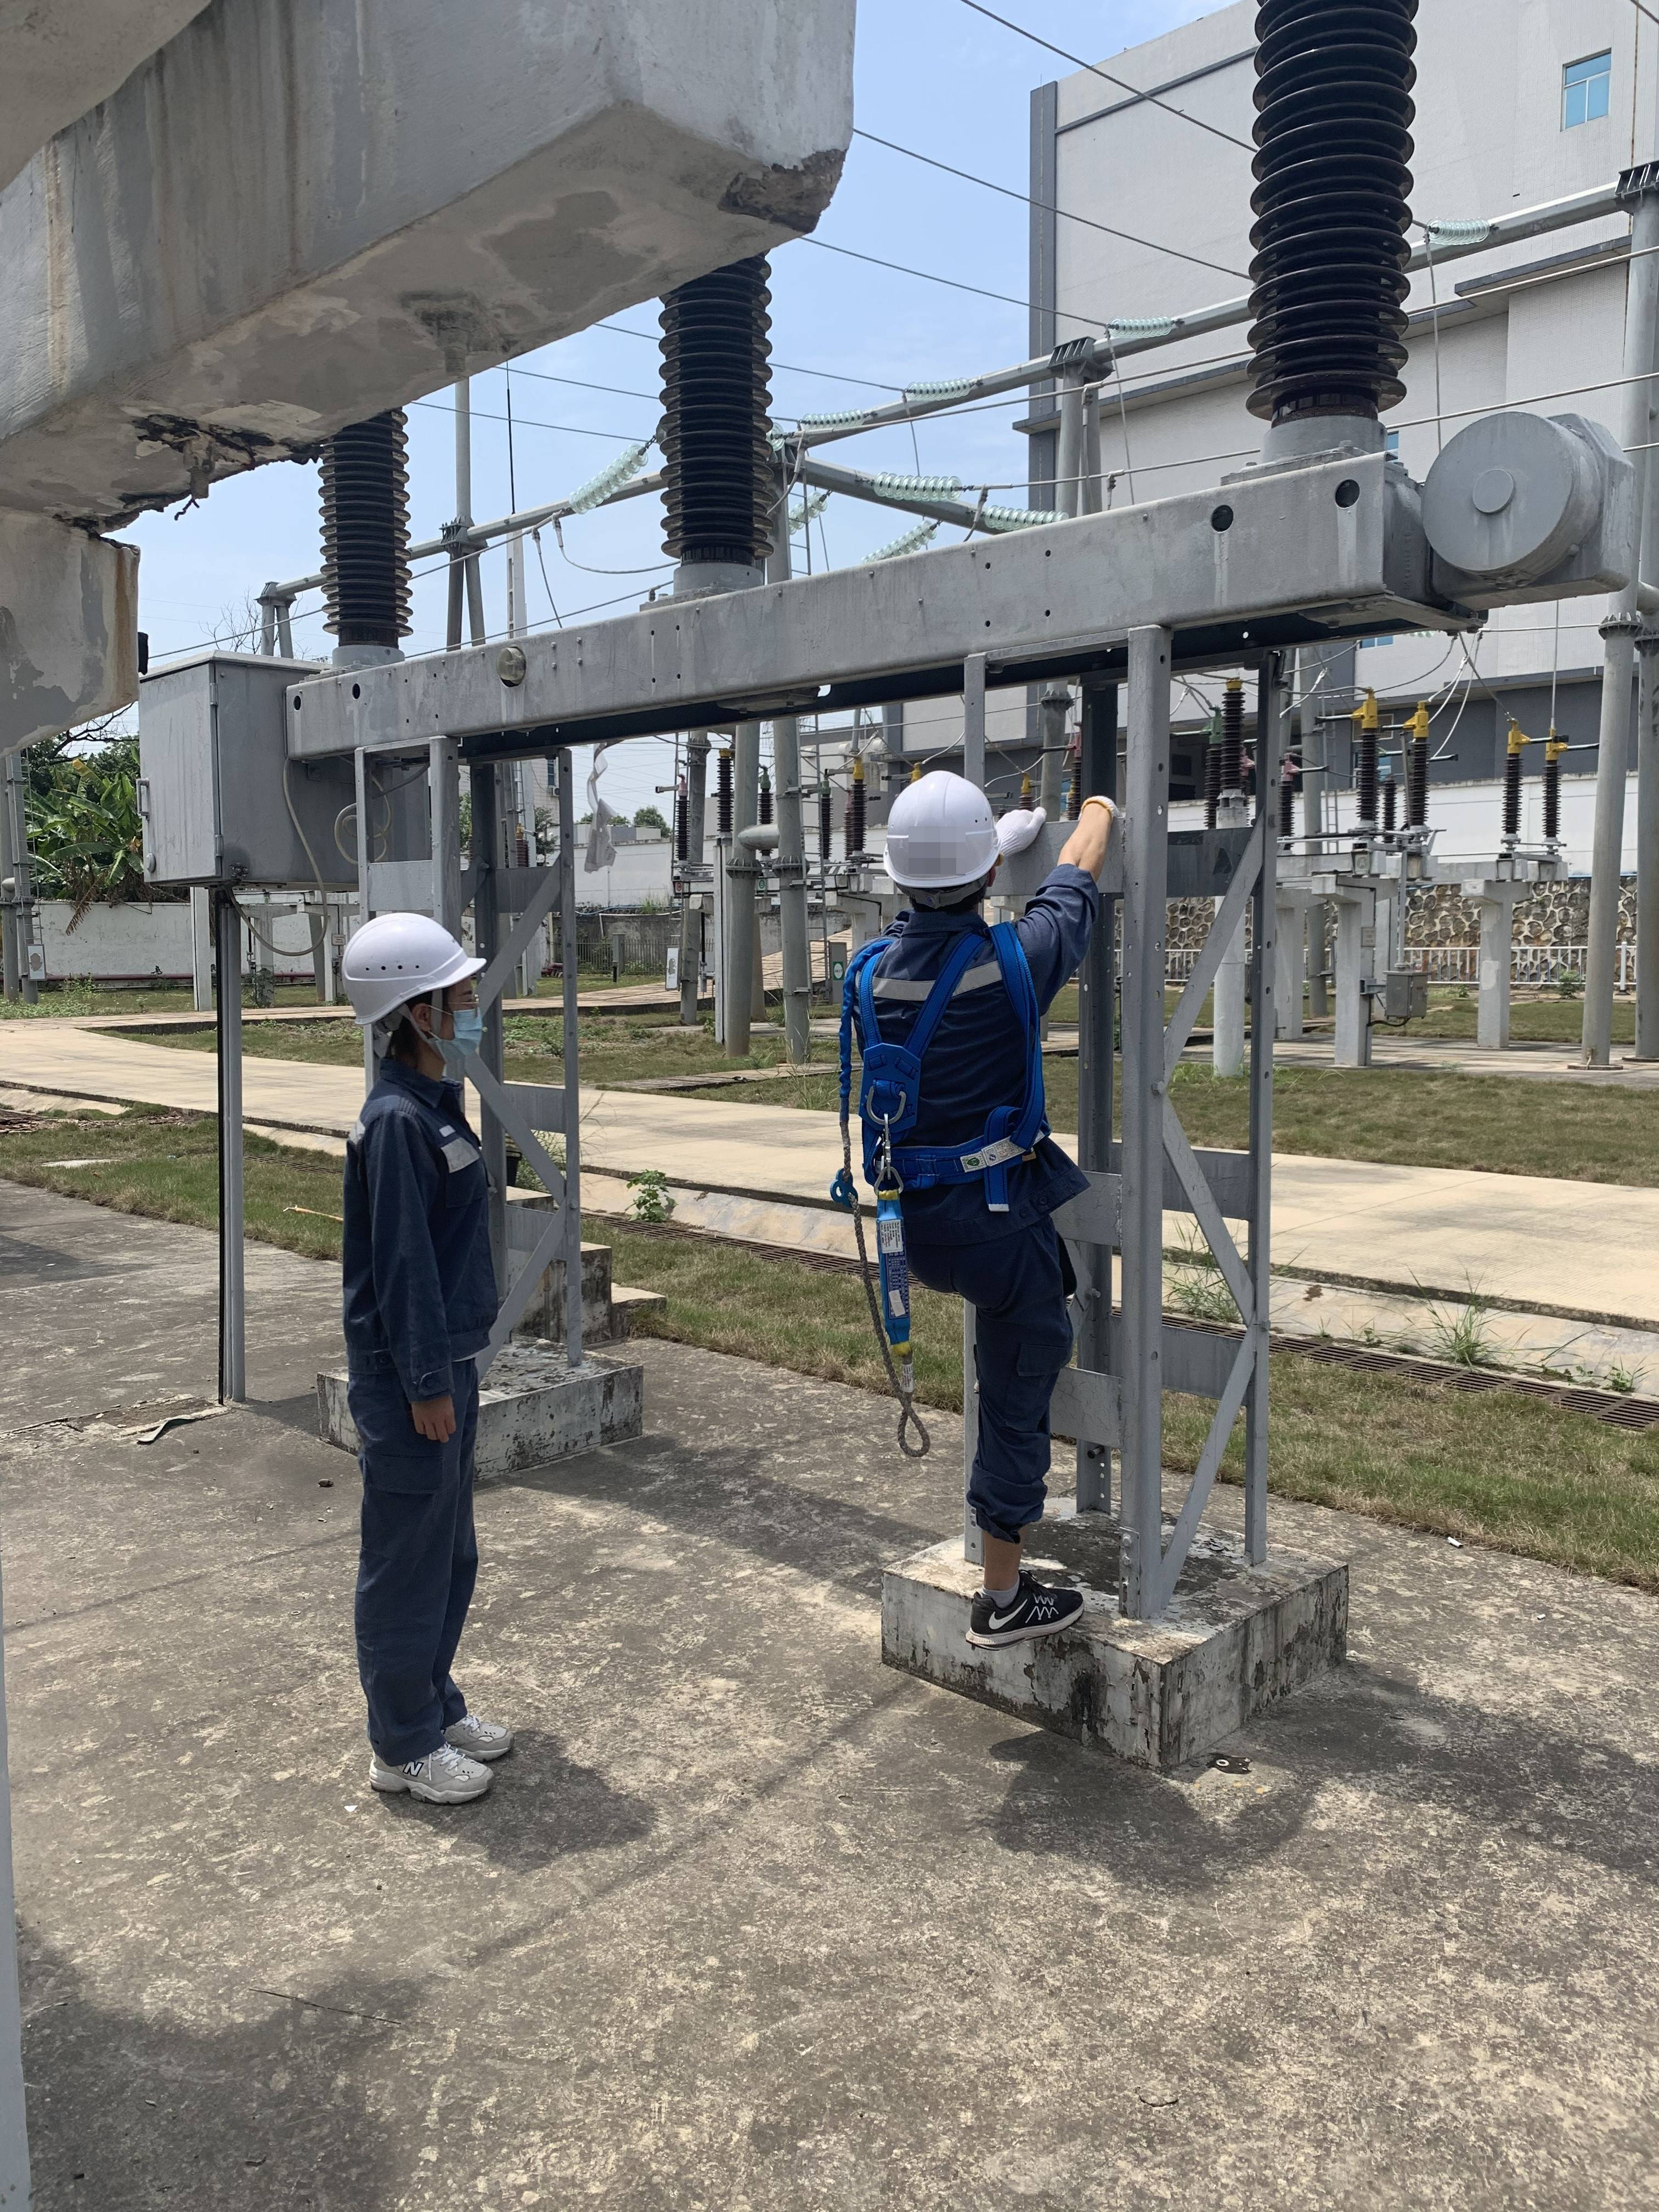downsuit: (880, 1217, 1084, 1526), (354, 1420, 479, 1740)
upsuit: (830, 871, 1115, 1165), (342, 1089, 509, 1393)
wrongbottom: (976, 1470, 1039, 1597)
wrongtop: (1042, 815, 1117, 923)
